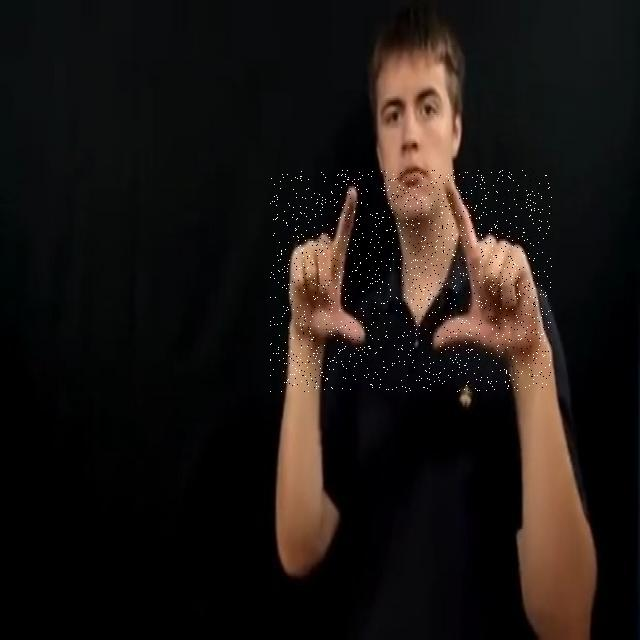bill: (270, 170, 552, 392)
